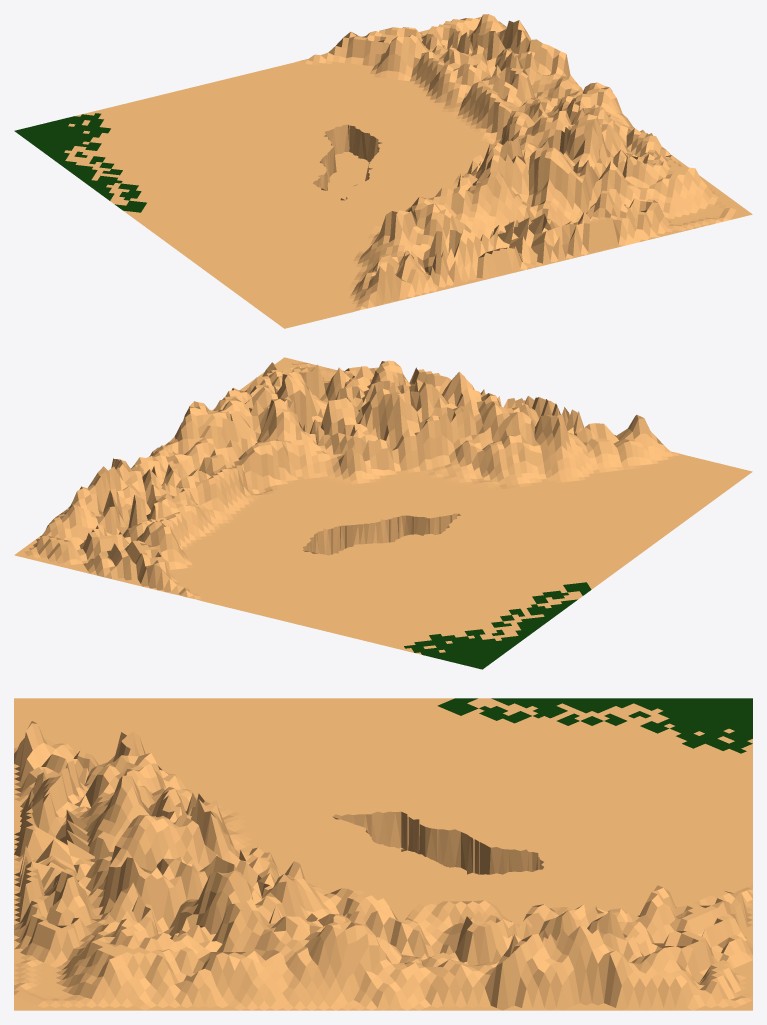
The model's file is DesertMap.fbx.
3 renders of one model, top to bottom at view 1: azimuth 30°, elevation 25°; view 2: azimuth 150°, elevation 25°; view 3: azimuth 270°, elevation 25°, orthographic. The views are drawn at different scales.
Parts seen in each view (by area): view 1: DesertMap; view 2: DesertMap; view 3: DesertMap.
Boxes of the visible parts, box(x1,y1,x2,y2) form: DesertMap: box(14, 14, 752, 328); DesertMap: box(14, 357, 752, 669); DesertMap: box(14, 698, 752, 1010).
Bounding box in the file's own units: 7463 × 1446 × 7463.
